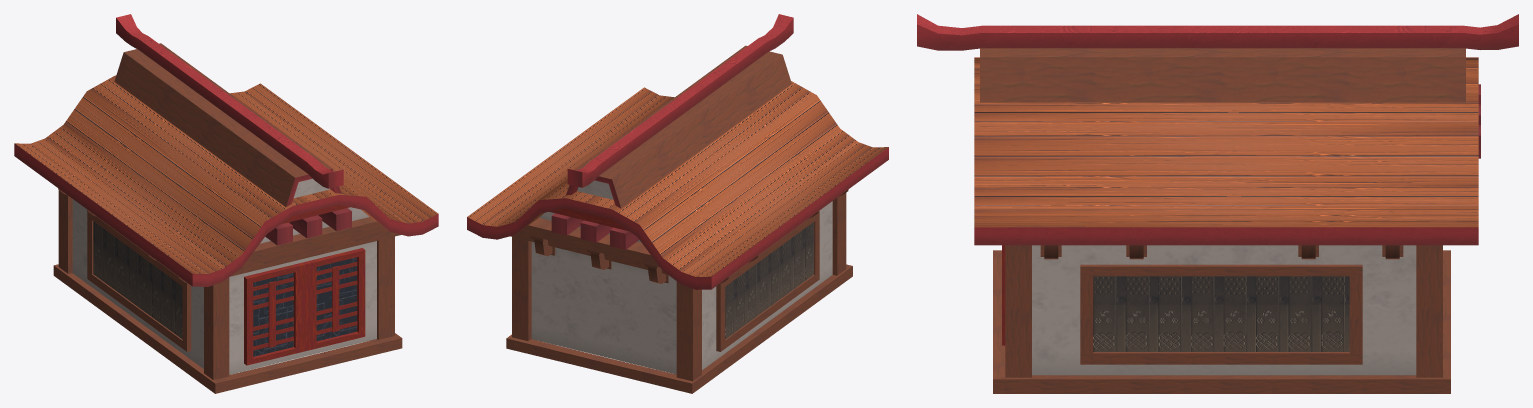
File: polygonalmind-lunar-year-018.glb
The picture shows the model from 3 angles, left to right: view 1: azimuth 30°, elevation 25°; view 2: azimuth 150°, elevation 25°; view 3: azimuth 270°, elevation 25°; orthographic projection. The views are drawn at different scales.
Visible parts, largest first — view 1: Floor02; view 2: Floor02; view 3: Floor02.
Boxes of the visible parts, x1,y1,x2,y2 form: Floor02: (14,14,438,393); Floor02: (467,14,888,393); Floor02: (917,14,1518,393).
Bounding box in the file's own units: 15.73 × 13.4 × 23.54.
Materials: 4 (4 with a texture image).
